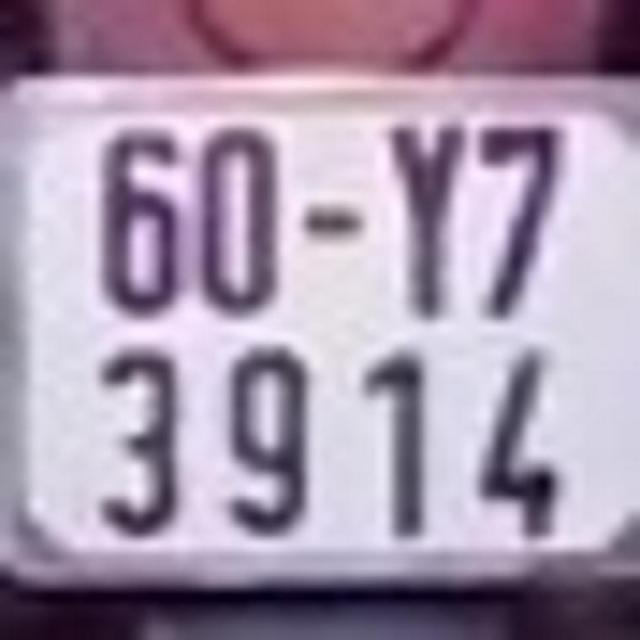0: (196, 119, 286, 316)
1: (355, 338, 436, 536)
3: (94, 336, 181, 536)
4: (472, 338, 572, 545)
6: (88, 119, 187, 316)
7: (477, 116, 570, 324)
9: (221, 332, 311, 535)
Y: (376, 114, 471, 325)
